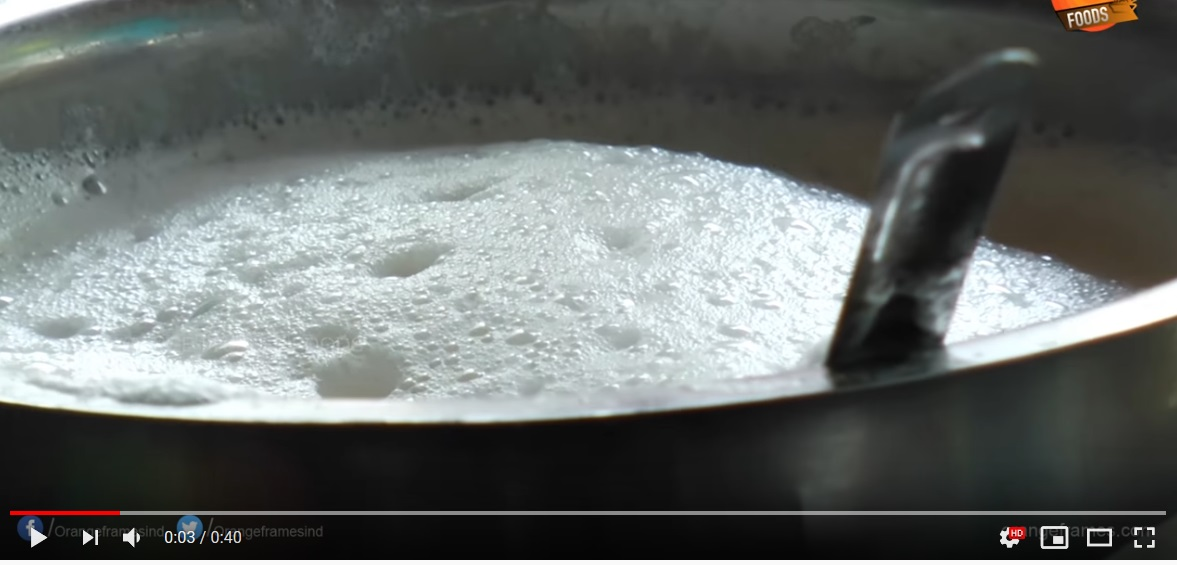Boiled: (7, 124, 1153, 437)
